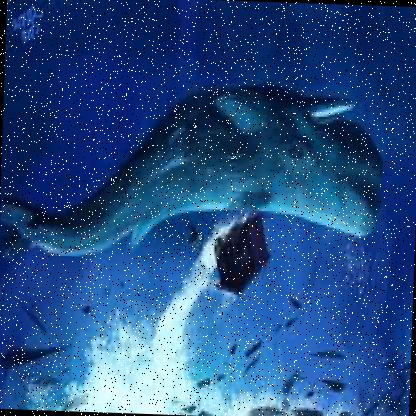blue_whale: (11, 56, 392, 272)
